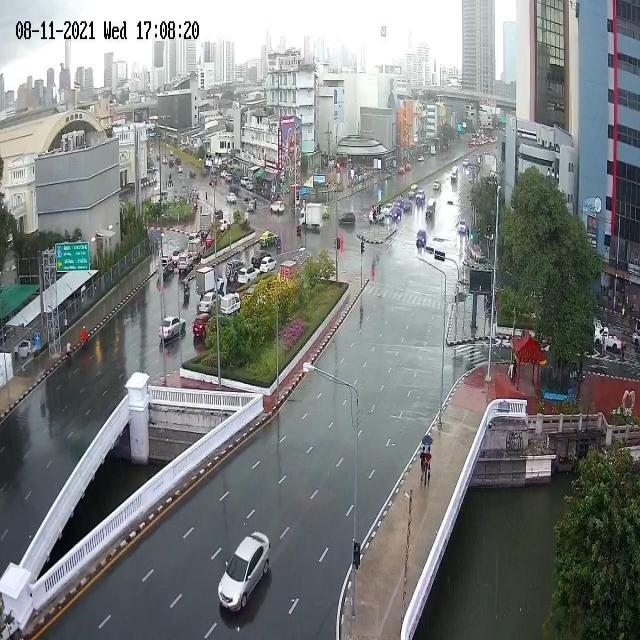Car: (212, 526, 274, 616), (158, 316, 186, 345), (198, 289, 225, 315), (235, 266, 260, 288), (258, 255, 277, 273), (178, 251, 191, 272), (177, 148, 191, 166), (270, 200, 284, 214), (171, 249, 182, 266), (209, 209, 223, 222), (244, 198, 256, 213), (380, 206, 392, 220), (219, 218, 229, 232), (226, 192, 237, 204), (230, 181, 241, 193), (161, 255, 169, 270), (147, 166, 157, 177), (241, 178, 251, 188), (208, 177, 218, 186), (221, 169, 229, 180), (205, 158, 213, 168), (188, 170, 195, 178), (162, 156, 168, 164), (178, 166, 183, 173)
Truck: (190, 245, 202, 264), (358, 168, 372, 181), (216, 275, 226, 293), (144, 174, 157, 187), (198, 226, 210, 240), (168, 157, 176, 166), (245, 193, 253, 202), (169, 150, 174, 157)
